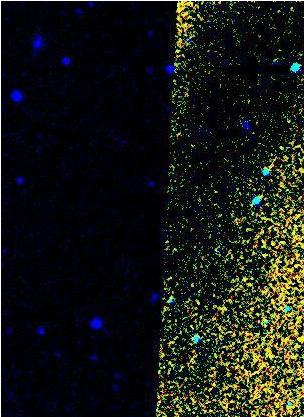star: (286, 322, 304, 352)
